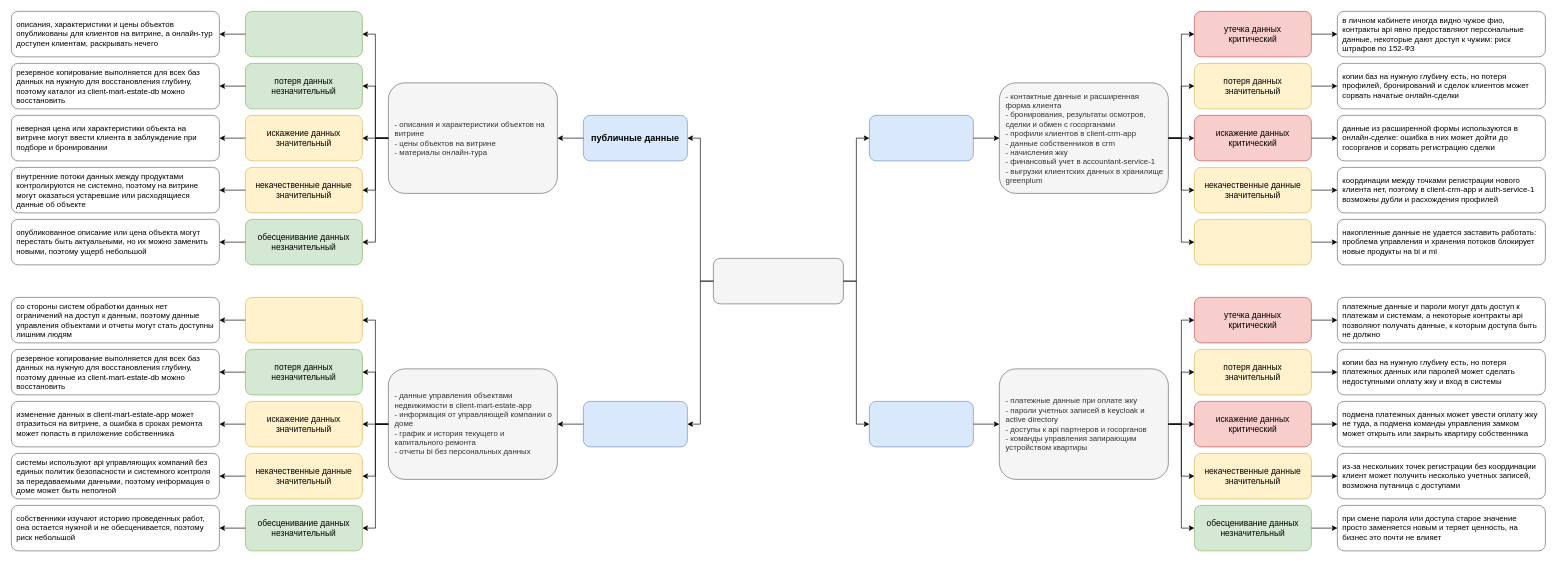
Image size: 1557x562. Some labels were removed from this diagram. Here are the shapes that lost their labels. From the top down, the centre of each, then its label:
At point (303, 34): "утечка данных незначительный".
At point (921, 138): "конфиденциальные данные".
At point (1252, 242): "обесценивание данных значительный".
At point (778, 281): "Безопасность данных".
At point (303, 320): "утечка данных значительный".
At point (635, 424): "внутренние данные".
At point (921, 424): "секретные данные".
